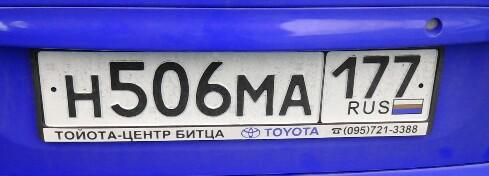license-plateSW: (34, 49, 439, 130)
